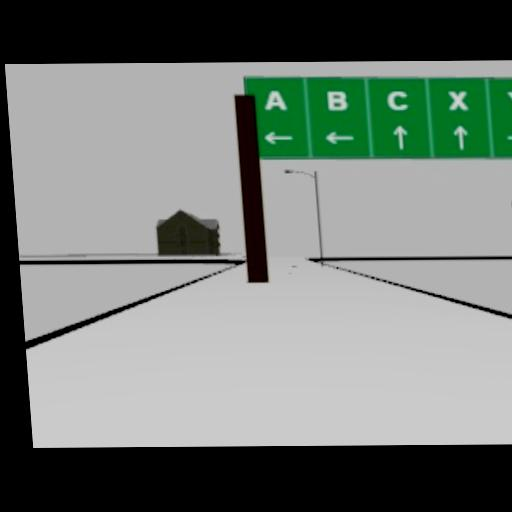A: (263, 89, 288, 111)
B: (325, 90, 346, 111)
C: (386, 90, 409, 110)
Left: (321, 131, 356, 144), (263, 131, 294, 145)
Right: (506, 131, 512, 143)
Straight: (392, 124, 409, 149), (453, 125, 468, 150)
X: (447, 90, 468, 110)
Y: (506, 91, 512, 110)
